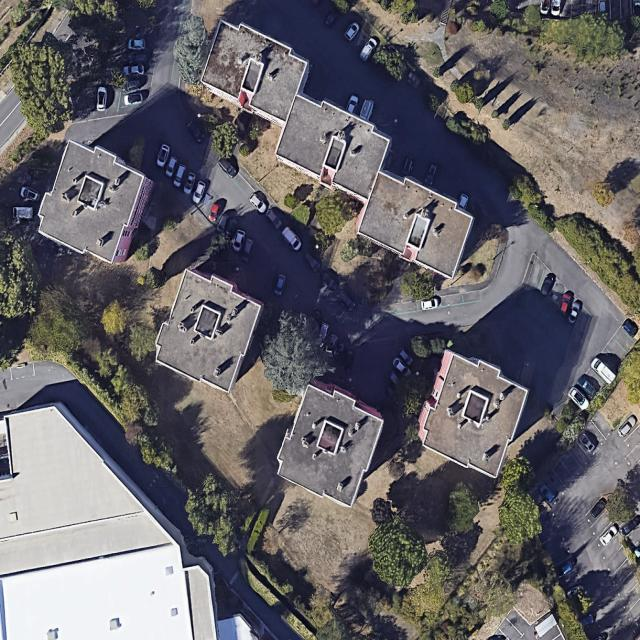immeuble: (0, 402, 217, 639), (29, 134, 160, 269), (407, 346, 536, 480), (267, 375, 393, 510), (147, 263, 270, 395), (352, 165, 483, 281), (267, 88, 397, 203), (190, 14, 316, 128)
